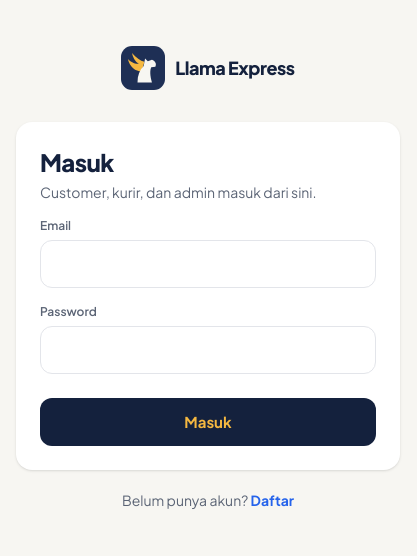
it: LoginPage › 401 → pesan "Email atau password salah" (tidak membocorkan field mana yang salah)
Type "budi@mail.com" into the field labelled "Email".
click(208, 264); type("budi@mail.com")  # box [40,240,376,288]
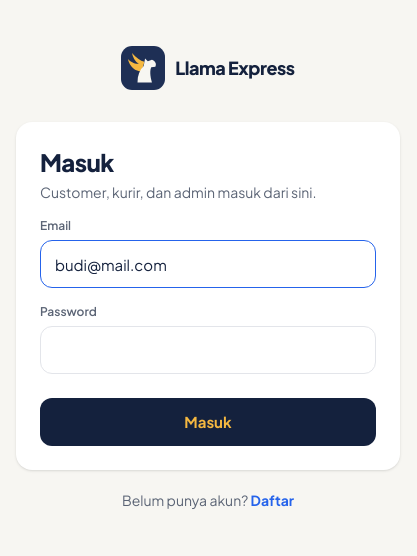
Type "rahasia123" into the password field labelled "Password".
click(208, 350); type("rahasia123")  # box [40,326,376,374]
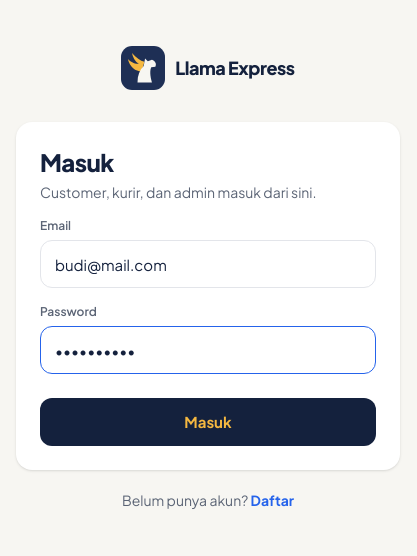
Click the button "Masuk".
click(208, 422)  # box [40,398,376,446]
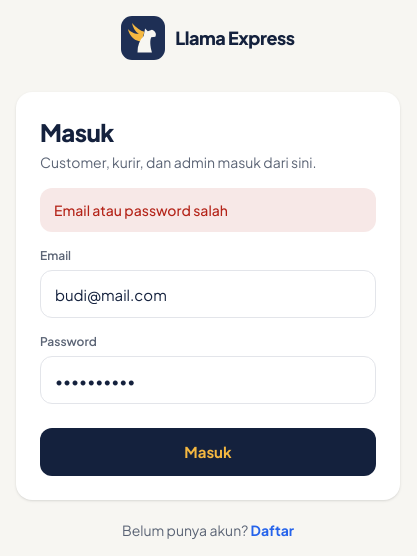
Check: the text "Email atau password salah" is shown, box [40,188,376,232]
